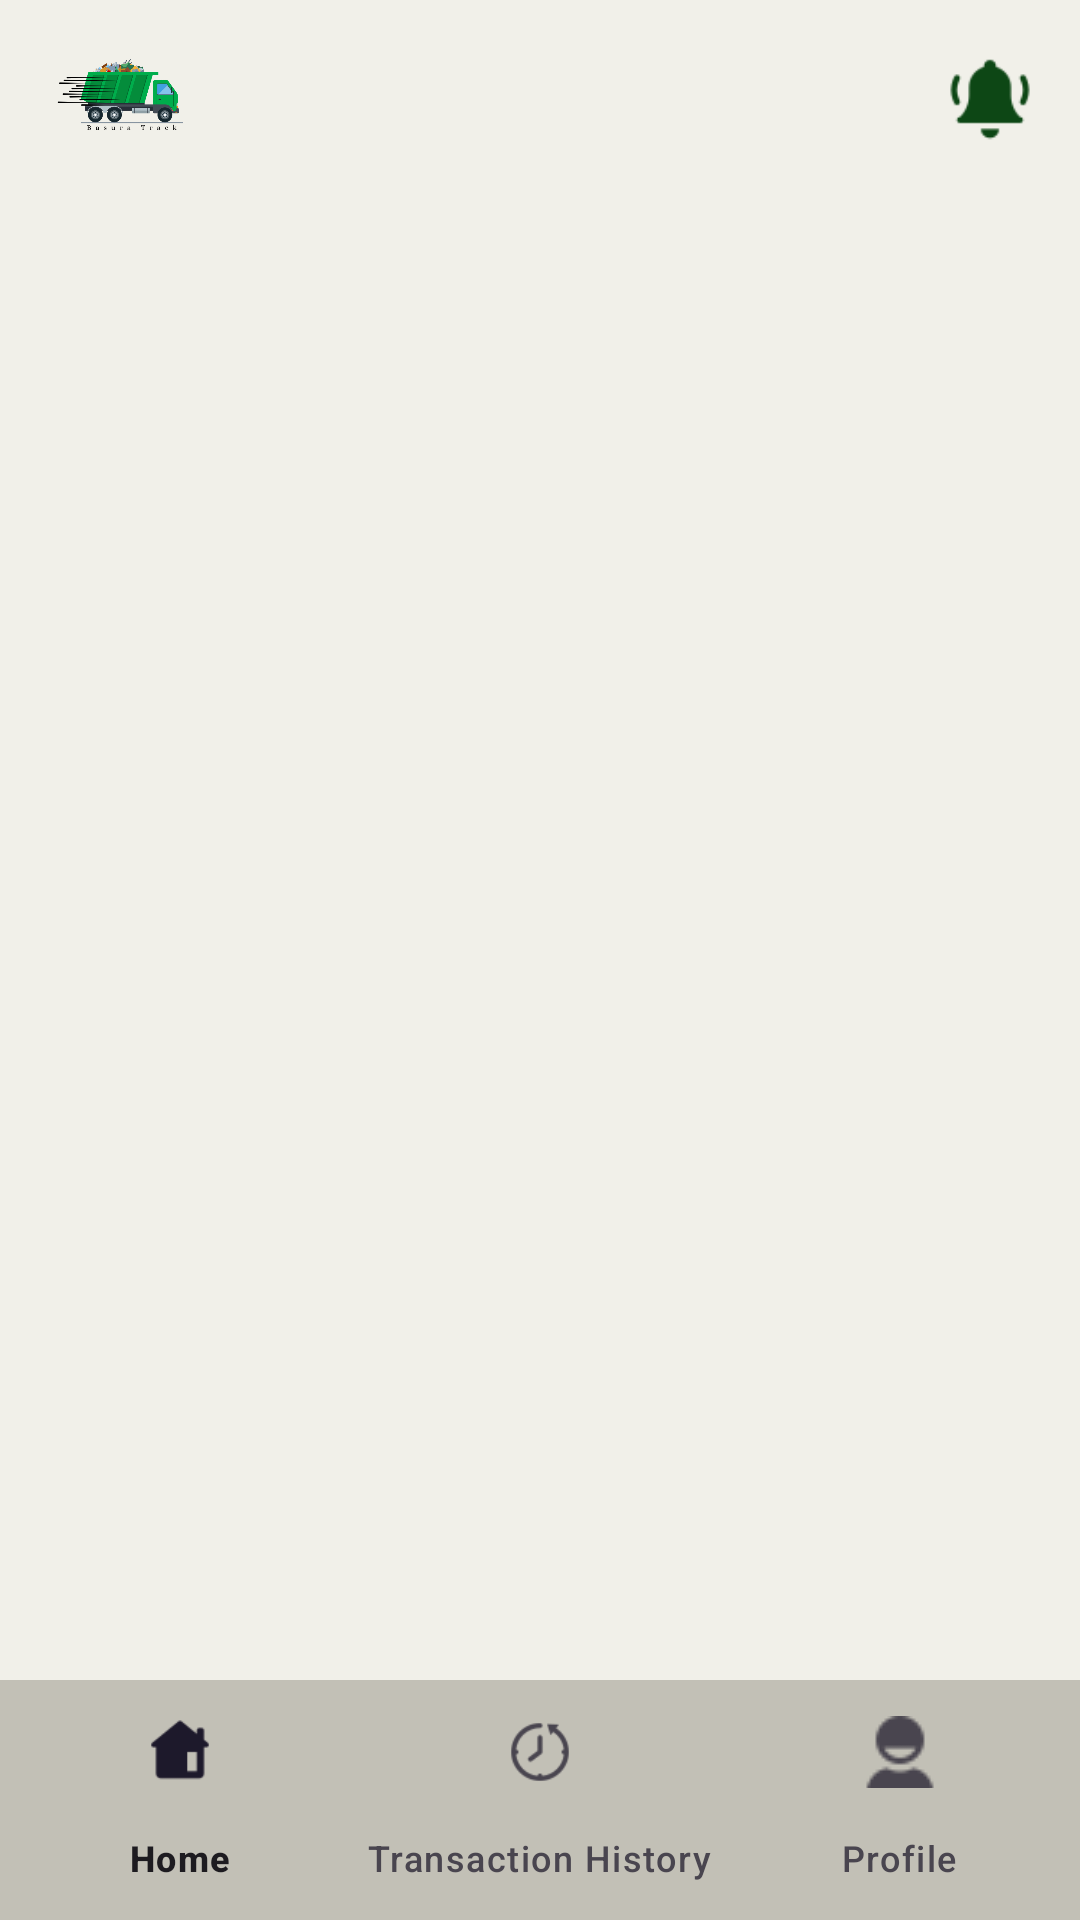

Where to tap for icons on this 1080×1920 app screen, as point (x, y):
iconsnotification: point (990, 99)
